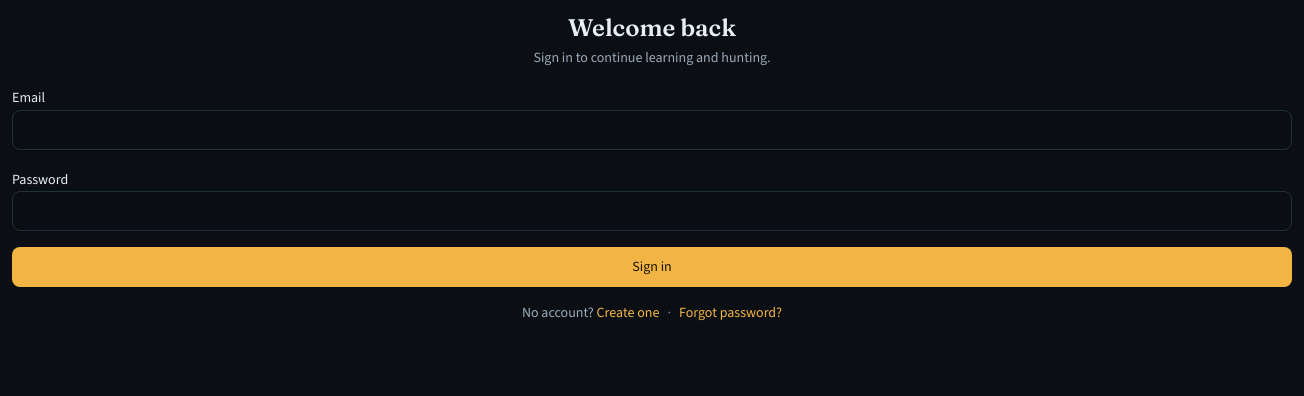
LoginForm › shows an error for bad credentials
Type "bad@example.com" into the field with test id "login-email" at (652, 130), box x1=12 y1=110 x2=1292 y2=150
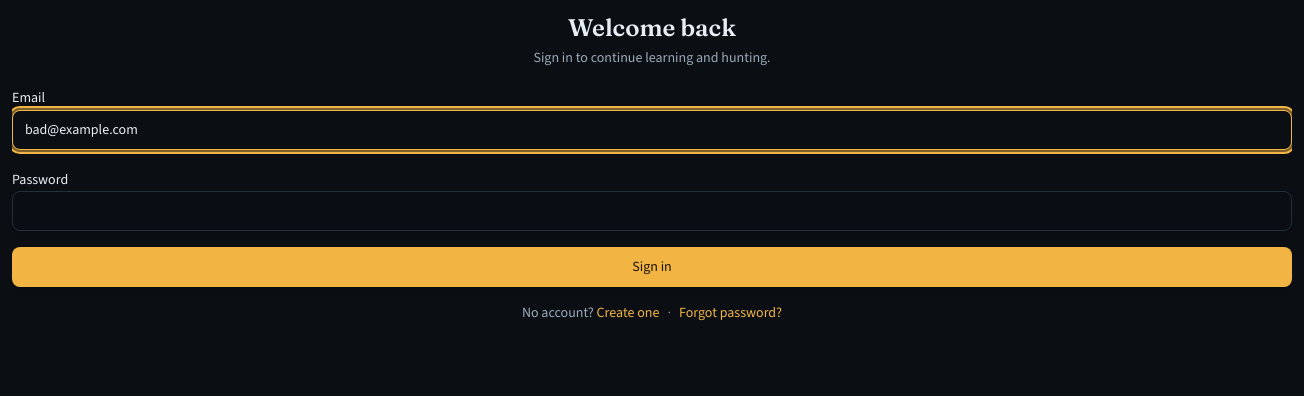
Type "not-the-password" into the password field with test id "login-password" at (652, 211), box x1=12 y1=191 x2=1292 y2=231
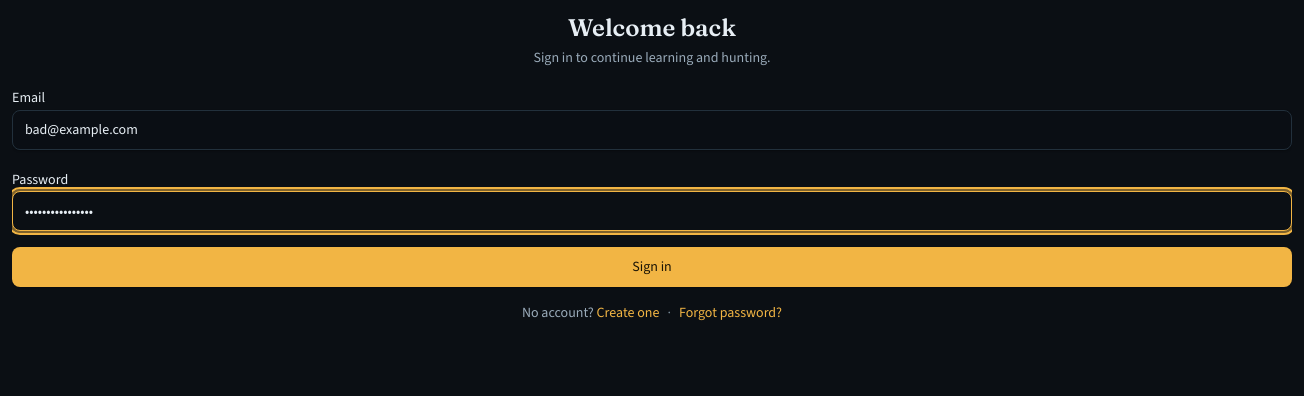
Click the button with test id "login-submit" at (652, 267), box x1=12 y1=247 x2=1292 y2=287
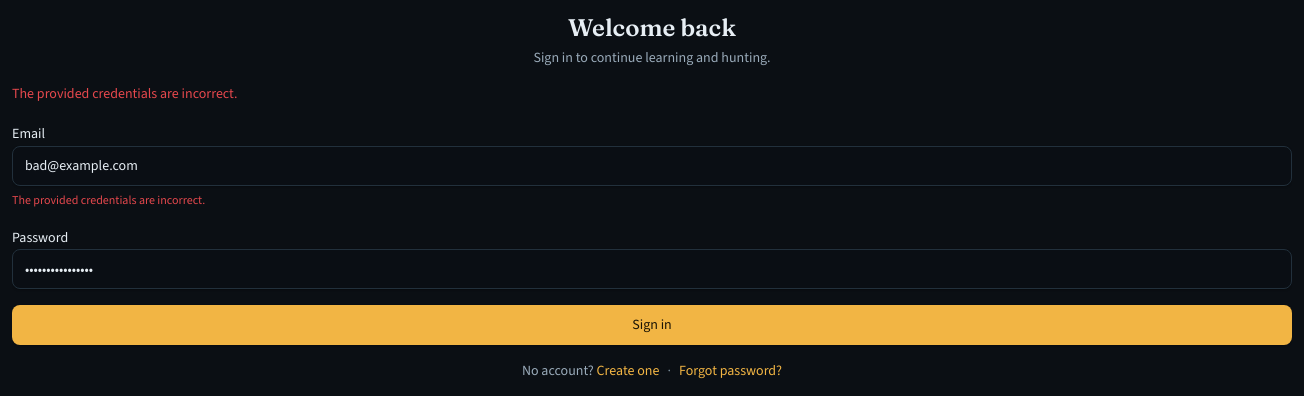
Result: the message with test id "login-error" is shown at x1=12 y1=84 x2=237 y2=103
